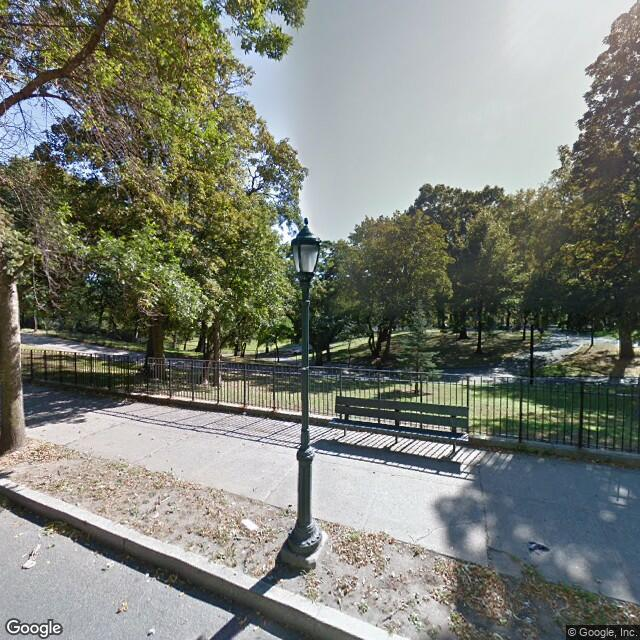litter: (525, 536, 549, 556), (240, 515, 256, 531), (282, 420, 294, 431), (522, 614, 535, 624), (521, 596, 529, 607), (264, 414, 272, 421), (240, 408, 246, 415)
